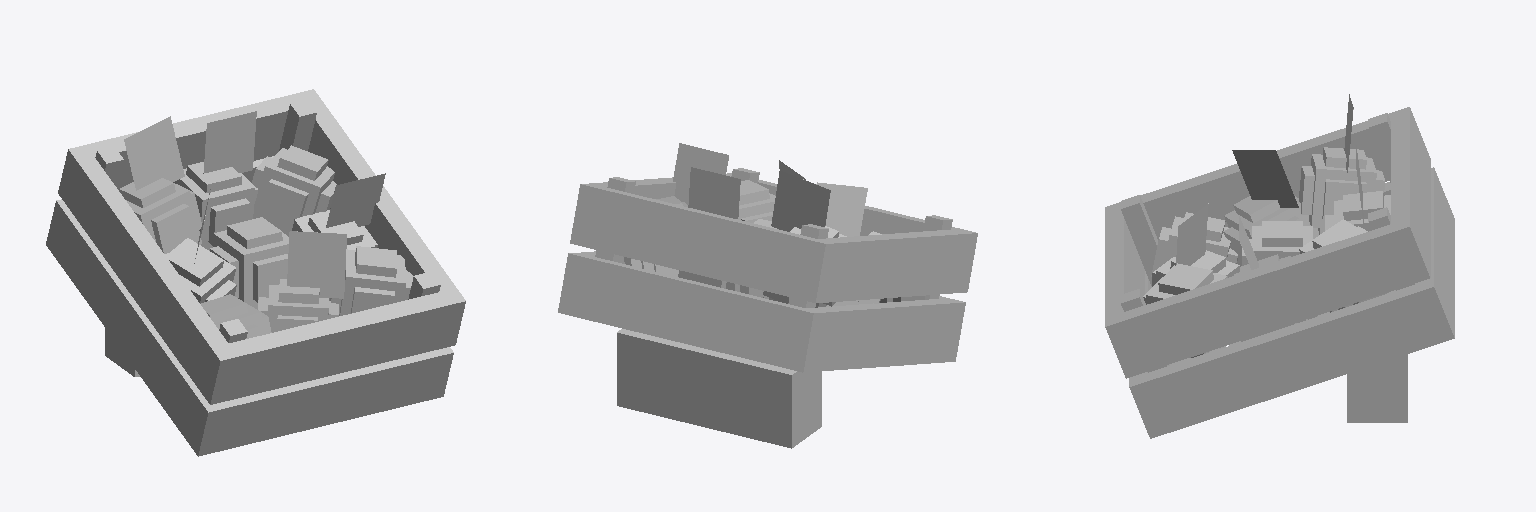
File: 1757_orange_crate.obj
3 views of the same model, side by side, from view 1: azimuth 30°, elevation 25°; view 2: azimuth 150°, elevation 25°; view 3: azimuth 270°, elevation 25° (orthographic).
Parts seen in each view (by area): view 1: Plank8, Plank2, Plank9, Plank3, Plank5, Plank11, Apple3stem, Apple8stem, Apple4stem, Apple2stem, Apple7, Apple5 (+24 smaller); view 2: Block, Plank12, Plank11, Plank8, Plank9, Apple8stem, Apple4stem, Plank5, Apple1stem, Apple2stem, Plank2, Plank6 (+2 smaller); view 3: Plank6, Plank5, Plank8, Plank11, Block, Plank2, Plank12, Apple1stem, Apple8, corner1, Apple3stem, Apple6m5 (+11 smaller).
Part boxes in pixels (left/top/right/bottom): Plank8: left=58, top=145, right=237, bottom=404; Plank2: left=228, top=292, right=448, bottom=400; Plank9: left=46, top=199, right=225, bottom=456; Plank3: left=216, top=351, right=435, bottom=451; Plank5: left=296, top=89, right=465, bottom=349; Plank11: left=86, top=94, right=301, bottom=191; Apple3stem: left=287, top=231, right=346, bottom=298; Apple8stem: left=124, top=116, right=184, bottom=190; Apple4stem: left=203, top=111, right=256, bottom=173; Apple2stem: left=326, top=173, right=385, bottom=227; Apple7: left=253, top=148, right=334, bottom=234; Apple5: left=213, top=230, right=288, bottom=307; Block: left=617, top=329, right=821, bottom=448; Plank12: left=575, top=257, right=803, bottom=367; Plank11: left=587, top=188, right=814, bottom=298; Plank8: left=798, top=229, right=977, bottom=302; Plank9: left=786, top=298, right=965, bottom=372; Apple8stem: left=771, top=170, right=830, bottom=231; Apple4stem: left=688, top=167, right=740, bottom=218; Plank5: left=570, top=173, right=731, bottom=247; Apple1stem: left=816, top=182, right=867, bottom=236; Apple2stem: left=673, top=143, right=728, bottom=204; Plank2: left=758, top=180, right=959, bottom=235; Plank6: left=558, top=251, right=624, bottom=316; Plank6: left=1129, top=279, right=1454, bottom=438; Plank5: left=1105, top=218, right=1430, bottom=378; Plank8: left=1105, top=107, right=1430, bottom=239; Plank11: left=1391, top=115, right=1430, bottom=268; Block: left=1347, top=354, right=1407, bottom=422; Plank2: left=1105, top=211, right=1144, bottom=317; Plank12: left=1415, top=176, right=1454, bottom=328; Apple1stem: left=1232, top=150, right=1298, bottom=207; Apple8: left=1309, top=154, right=1376, bottom=227; corner1: left=1121, top=195, right=1157, bottom=285; Apple3stem: left=1176, top=203, right=1208, bottom=265; Apple6m5: left=1158, top=263, right=1213, bottom=294.
Bounding box in the file's own units: 0.875 × 0.8483 × 1.08.